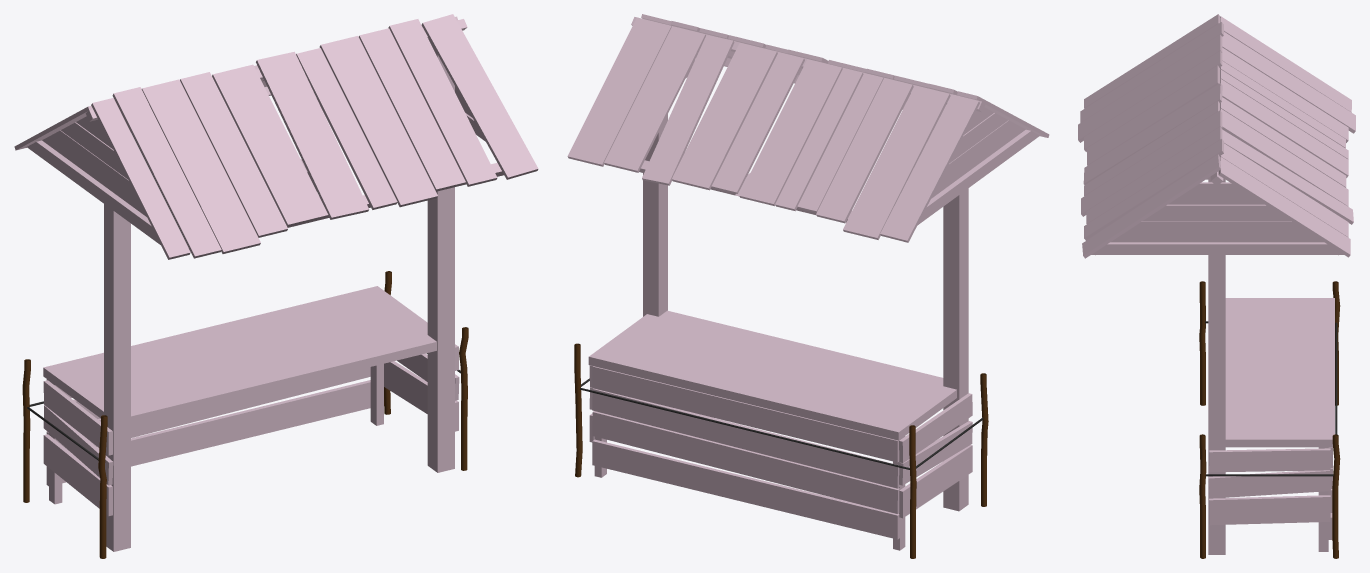
File: marking.fbx
The picture shows the model from 3 angles, left to right: view 1: azimuth 30°, elevation 25°; view 2: azimuth 150°, elevation 25°; view 3: azimuth 270°, elevation 25°; orthographic projection. The views are drawn at different scales.
Parts seen in each view (by area): view 1: TradeTent2, Cylinder.003, Cylinder.001, Cylinder.002; view 2: TradeTent2, Cylinder.007, Cylinder.004, Cylinder.001, Cylinder.003; view 3: TradeTent2, Cylinder.007, Cylinder.002, Cylinder.003, Cylinder.001, Cylinder.006.
Part boxes in pixels (left/top/right/bottom): TradeTent2: left=14, top=14, right=538, bottom=551; Cylinder.003: left=98, top=415, right=107, bottom=558; Cylinder.001: left=22, top=359, right=30, bottom=502; Cylinder.002: left=459, top=327, right=468, bottom=470; TradeTent2: left=567, top=14, right=1049, bottom=550; Cylinder.007: left=574, top=343, right=582, bottom=477; Cylinder.004: left=580, top=388, right=909, bottom=469; Cylinder.001: left=909, top=425, right=916, bottom=558; Cylinder.003: left=980, top=373, right=988, bottom=506; TradeTent2: left=1078, top=14, right=1355, bottom=554; Cylinder.007: left=1332, top=434, right=1340, bottom=558; Cylinder.002: left=1199, top=434, right=1206, bottom=558; Cylinder.003: left=1199, top=281, right=1205, bottom=405; Cylinder.001: left=1332, top=281, right=1340, bottom=405; Cylinder.006: left=1205, top=474, right=1333, bottom=476.
Size of the model in its own units: 300 by 345 by 222.
